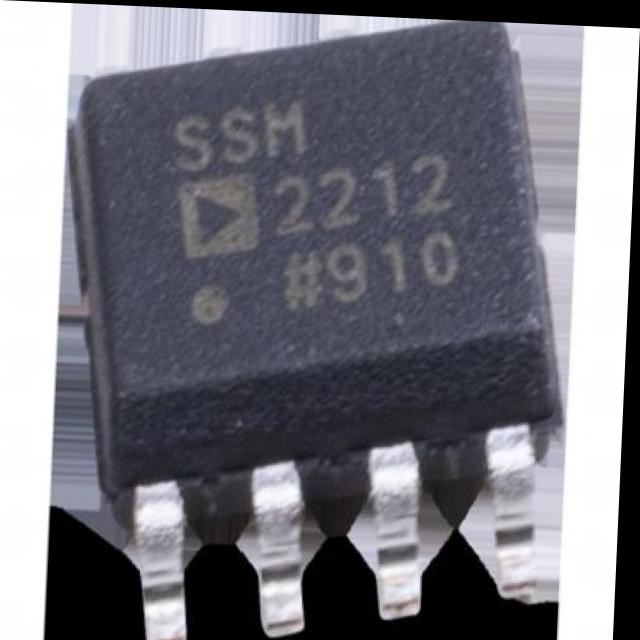IC chip: (72, 16, 566, 538)
